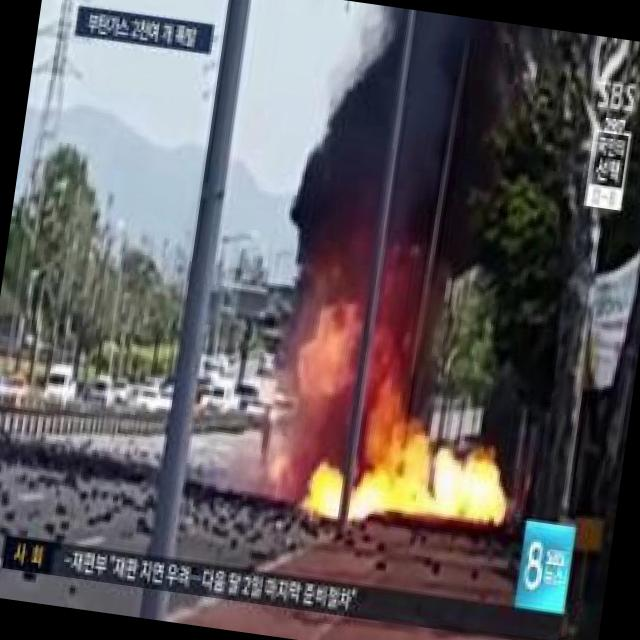Fire: (291, 407, 528, 548)
Smoke: (250, 9, 506, 482)
